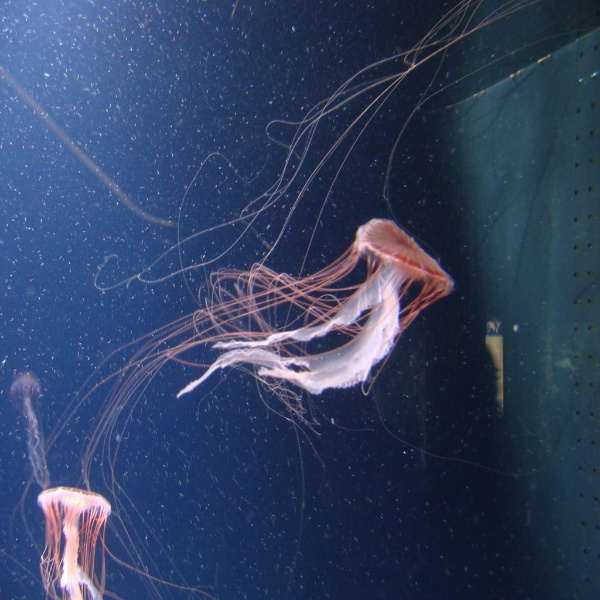Jellyfish: (19, 0, 534, 599), (37, 489, 121, 599)
